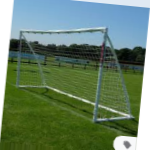goals: (15, 24, 133, 122)
